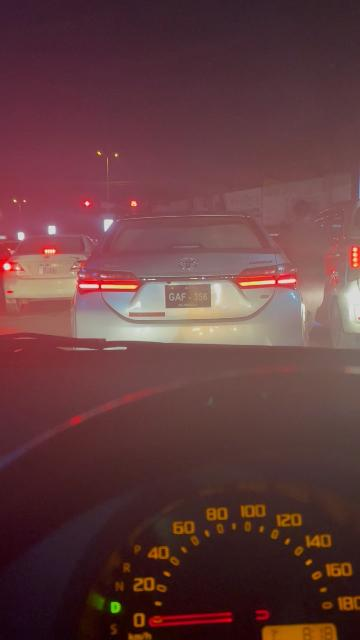plate: (165, 284, 211, 308)
